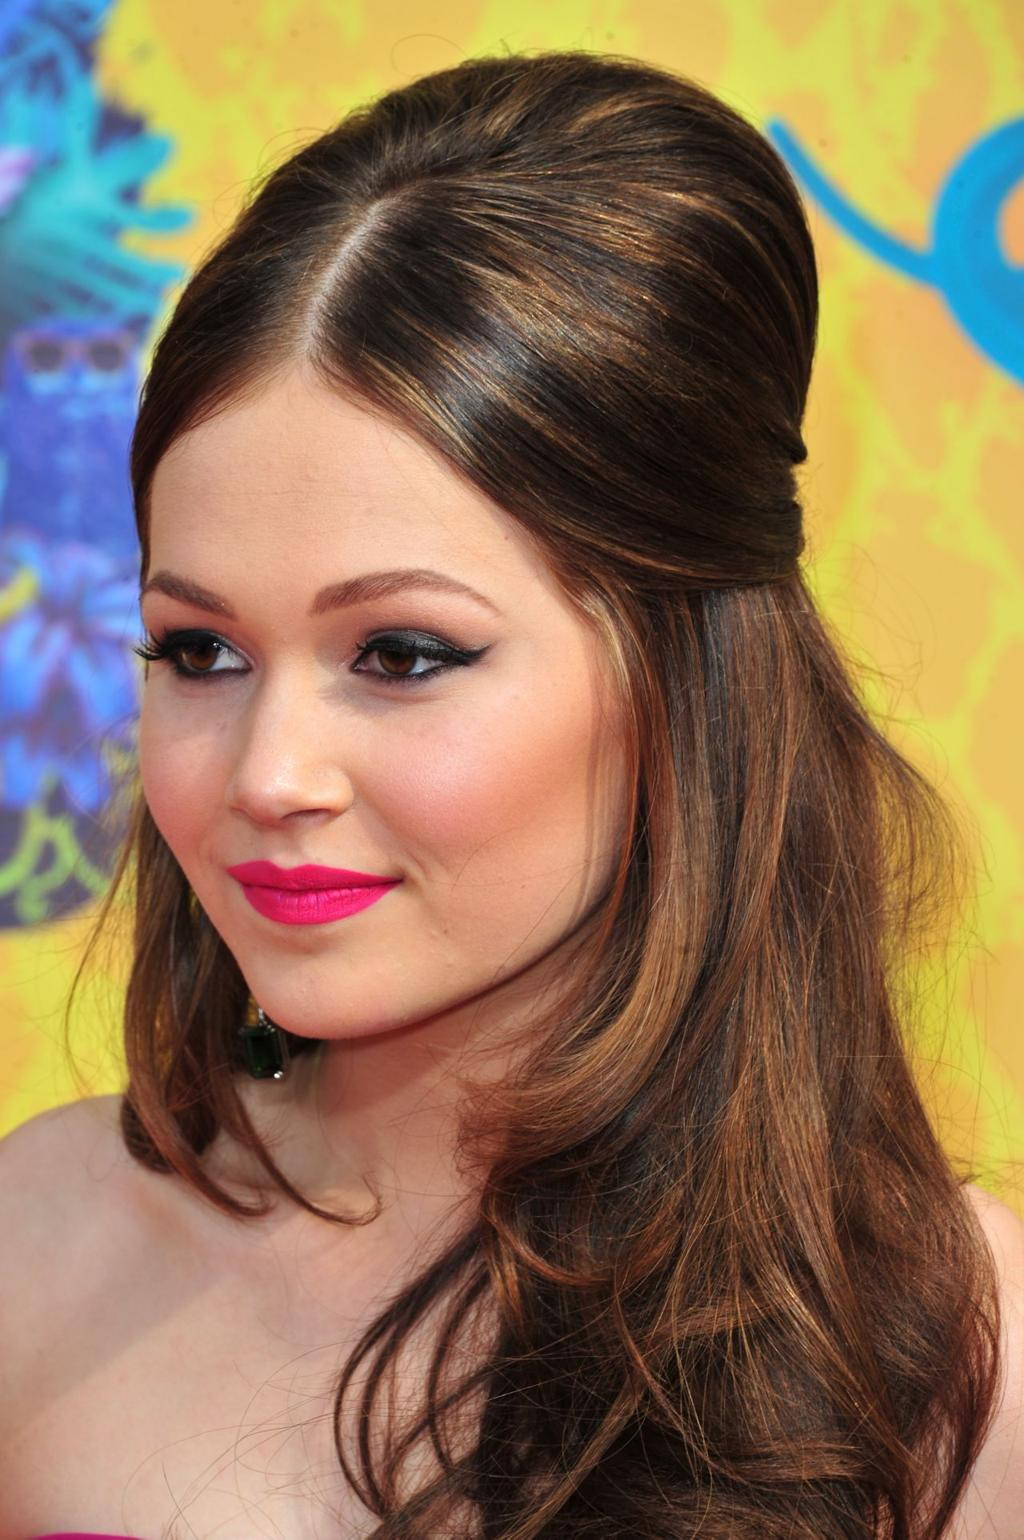face: (144, 381, 670, 1033)
